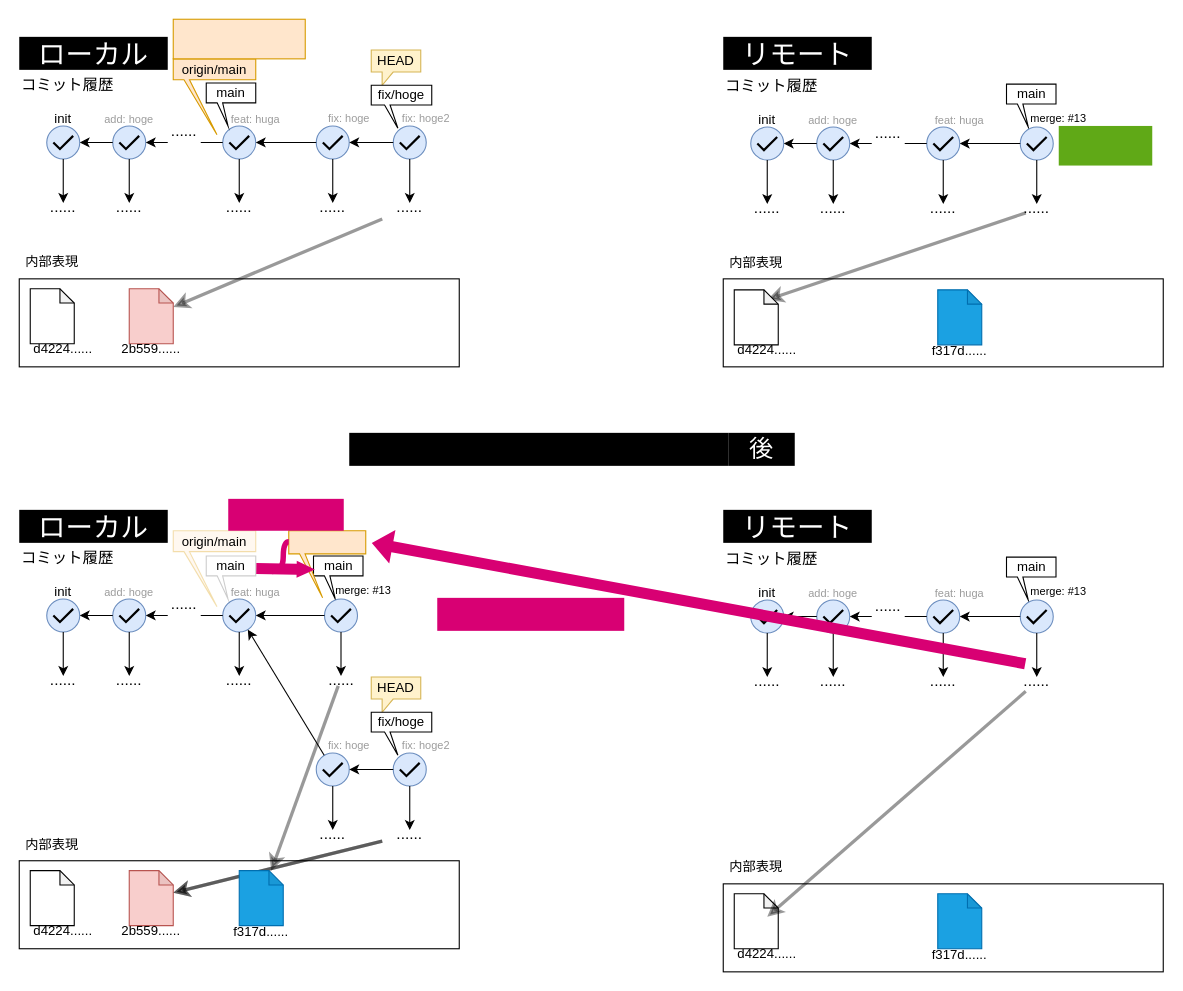
Image size: 1183x991. Some labels were removed from this diagram. The shapes that lost their labels are listed below. From the top down, each one's centre as x and y in pixels, then its label:
the point at 238,38: リモート追跡ブランチ
the point at 1105,145: ローカルより 進んでいる
the point at 538,448: git pull origin main
the point at 285,514: ff-merge
the point at 327,564: origin/main
the point at 530,613: リモート追跡ブランチの更新
